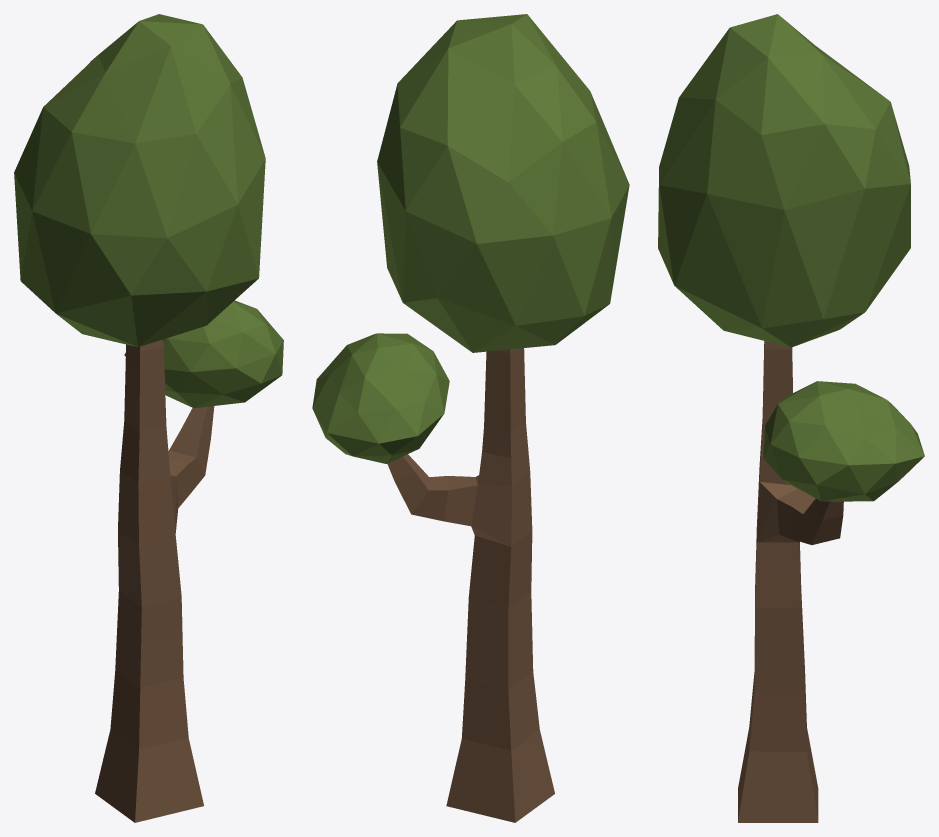
The model's file is SequoiaTree3.fbx.
3 renders of one model, left to right at view 1: azimuth 30°, elevation 25°; view 2: azimuth 150°, elevation 25°; view 3: azimuth 270°, elevation 25°, orthographic.
Visible parts, largest first — view 1: SequoiaTree3Foliage1, SequoiaTree3, SequoiaTree3Foliage2; view 2: SequoiaTree3Foliage1, SequoiaTree3, SequoiaTree3Foliage2; view 3: SequoiaTree3Foliage1, SequoiaTree3, SequoiaTree3Foliage2.
Part boxes in pixels (box(x1,y1,x2,y2)): SequoiaTree3Foliage1: box(14, 14, 265, 347); SequoiaTree3: box(95, 339, 214, 822); SequoiaTree3Foliage2: box(124, 300, 283, 408); SequoiaTree3Foliage1: box(377, 14, 629, 352); SequoiaTree3: box(387, 348, 554, 822); SequoiaTree3Foliage2: box(312, 333, 449, 463); SequoiaTree3Foliage1: box(658, 14, 910, 347); SequoiaTree3: box(738, 341, 843, 822); SequoiaTree3Foliage2: box(763, 381, 924, 501).
Bounding box in the file's own units: 4.77 × 13.5 × 4.15.
